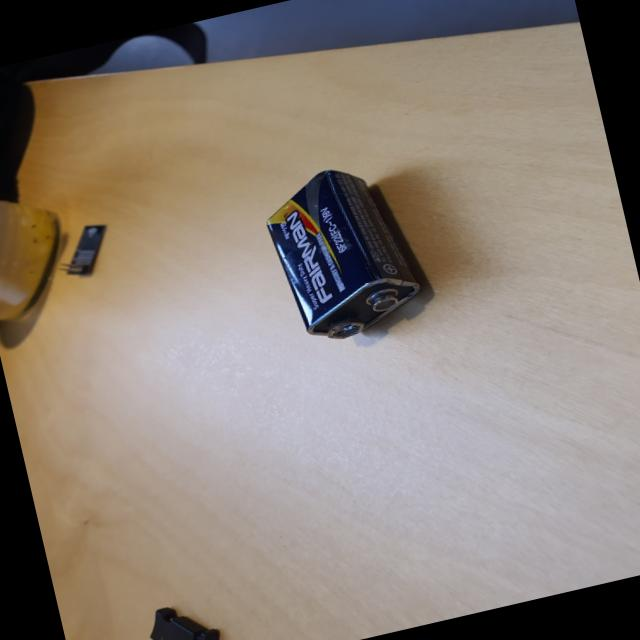battery-etc-etc: (244, 147, 446, 367)
